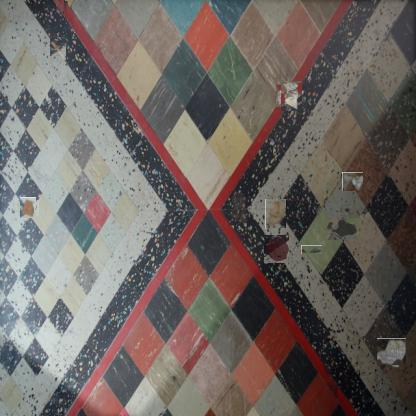dirty: (377, 338, 406, 366), (278, 83, 304, 109), (265, 200, 286, 230), (342, 172, 363, 191), (19, 199, 38, 217), (49, 40, 67, 58), (301, 245, 322, 254)
liquid: (262, 235, 290, 262), (327, 218, 359, 240)
